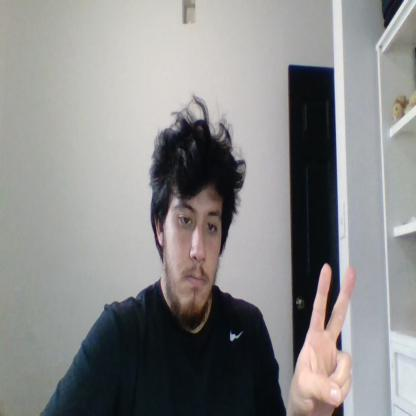V: (287, 262, 357, 415)
